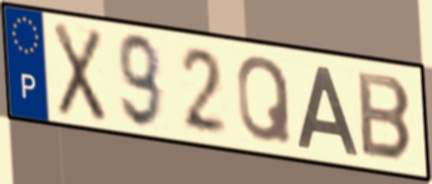2: (178, 45, 230, 138)
9: (116, 30, 166, 133)
A: (294, 62, 361, 158)
B: (355, 68, 416, 165)
Q: (235, 53, 295, 147)
X: (51, 19, 108, 126)
